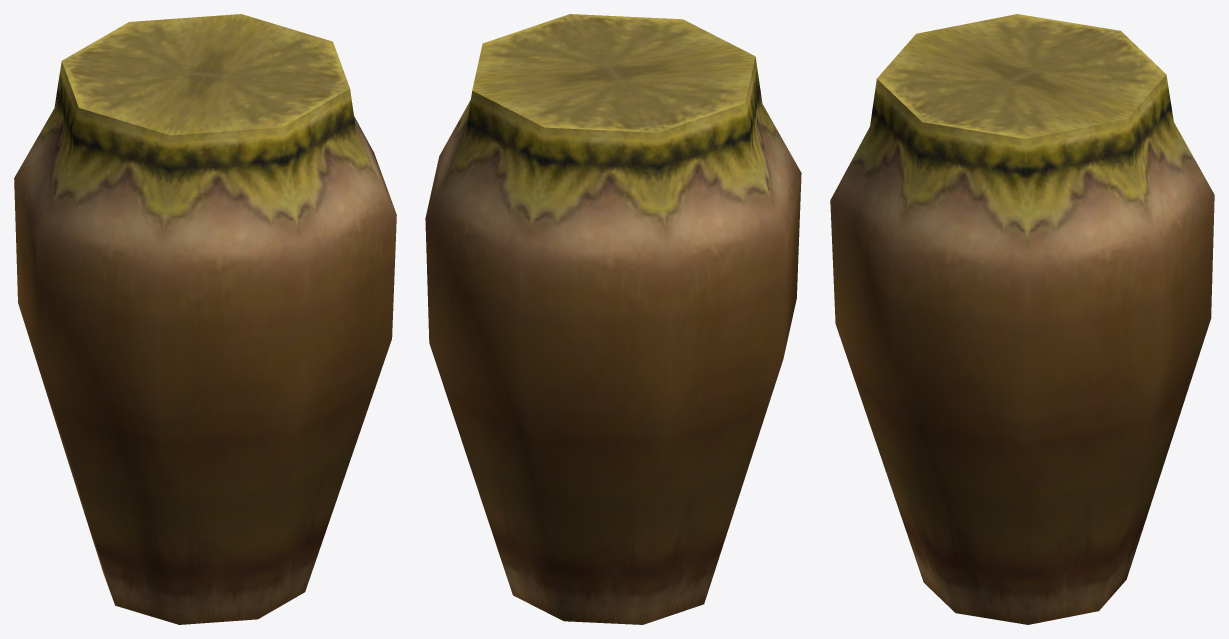
File: guanzi02.FBX
3 views of the same model, side by side, from view 1: azimuth 30°, elevation 25°; view 2: azimuth 150°, elevation 25°; view 3: azimuth 270°, elevation 25° (orthographic).
Parts seen in each view (by area): view 1: guanzi02; view 2: guanzi02; view 3: guanzi02.
Boxes of the visible parts, x1=… form: guanzi02: x1=14, y1=14, x2=396, y2=624; guanzi02: x1=425, y1=14, x2=801, y2=624; guanzi02: x1=830, y1=14, x2=1214, y2=624.
Size of the model in its own units: 68.35 by 97.01 by 66.91.
